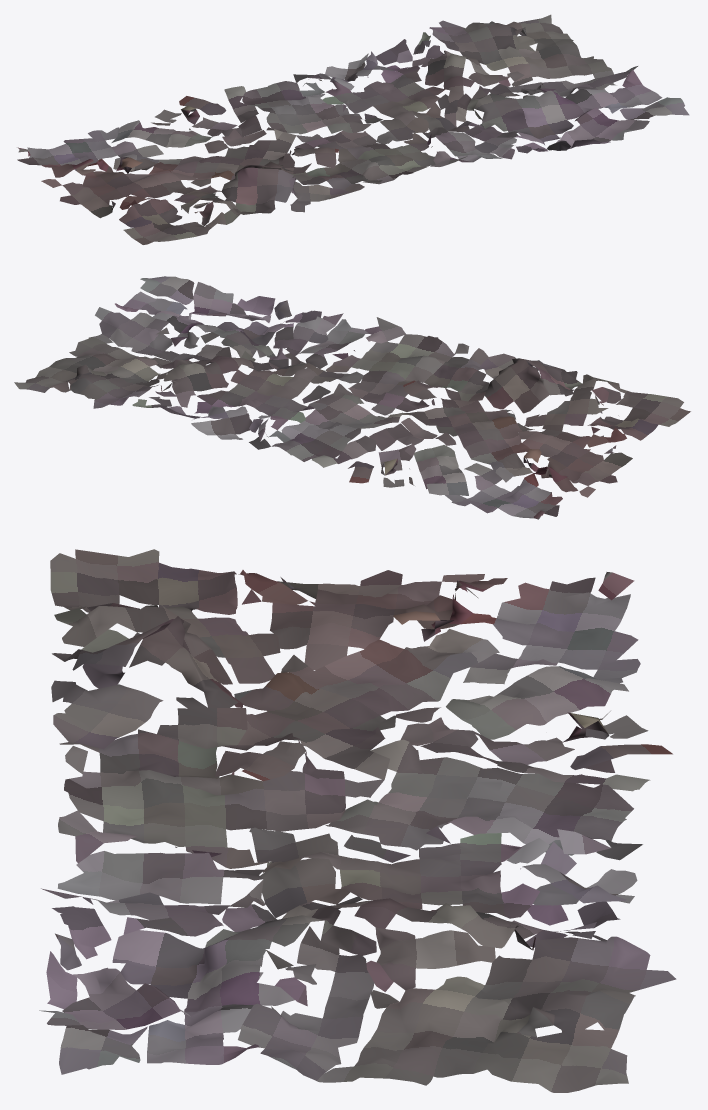
Rendered from groundextralow.obj.
The picture shows the model from 3 angles, top to bottom: view 1: azimuth 30°, elevation 25°; view 2: azimuth 150°, elevation 25°; view 3: azimuth 270°, elevation 25°; orthographic projection. The views are drawn at different scales.
Bounding box in the file's own units: 4.44 × 0.3527 × 2.23.
1 material, 1 textured.
